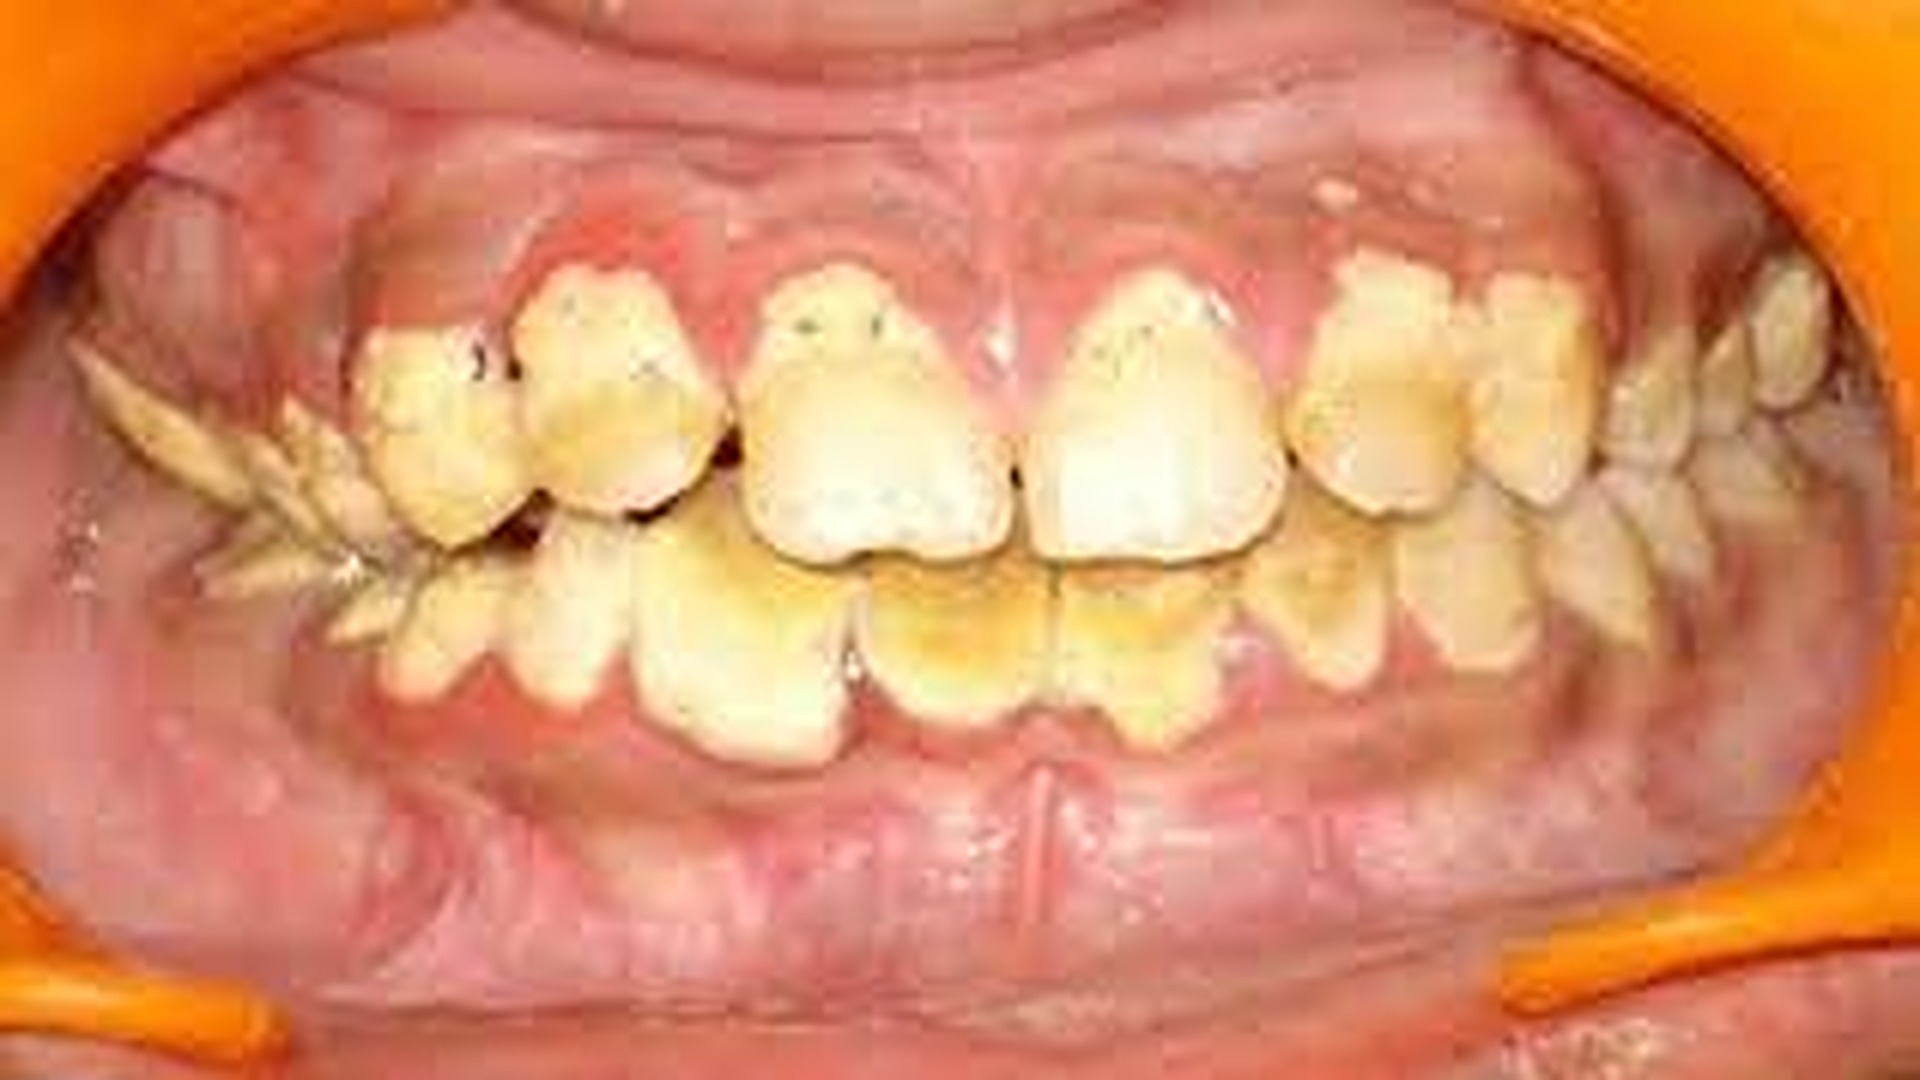tooth: (1014, 266, 1291, 564)
